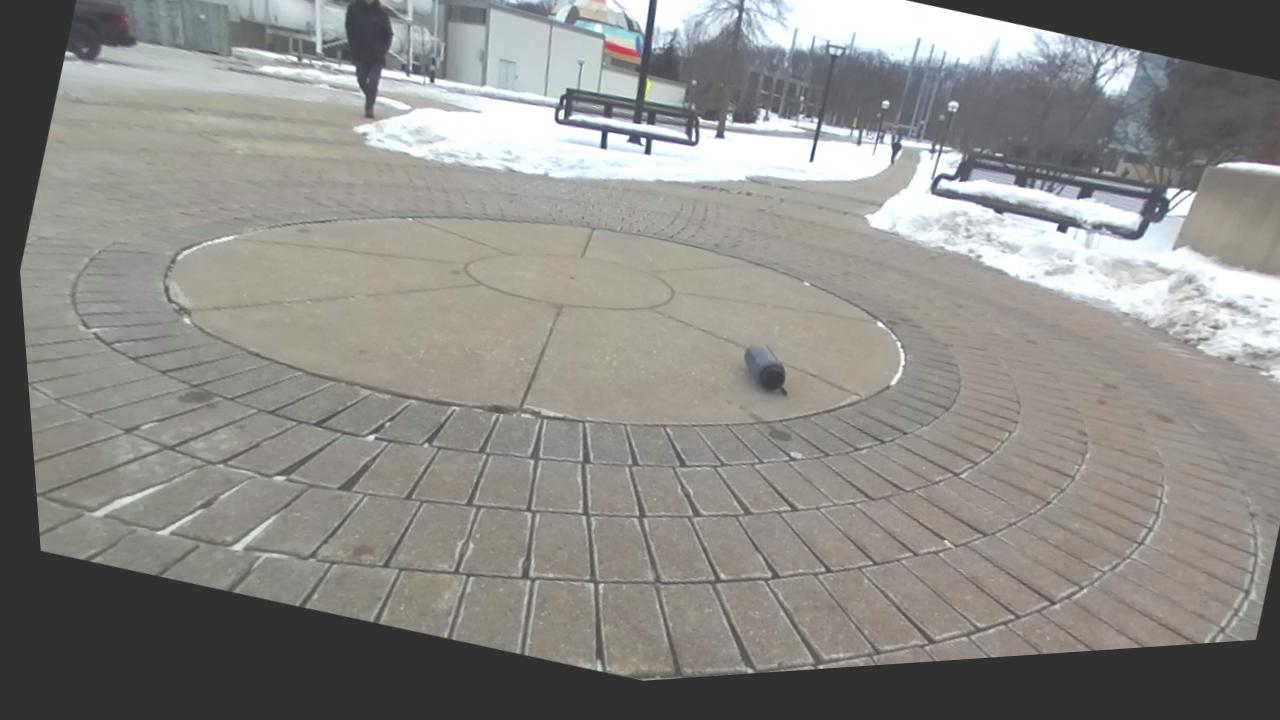bottle: (745, 344, 785, 394)
